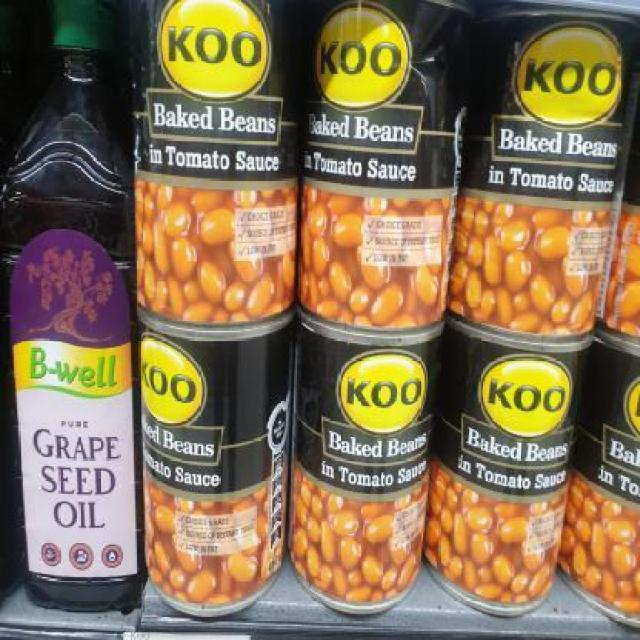Beans: (482, 0, 638, 217), (318, 0, 473, 203), (134, 11, 308, 186), (138, 317, 296, 495), (308, 322, 443, 493), (445, 320, 600, 466)
